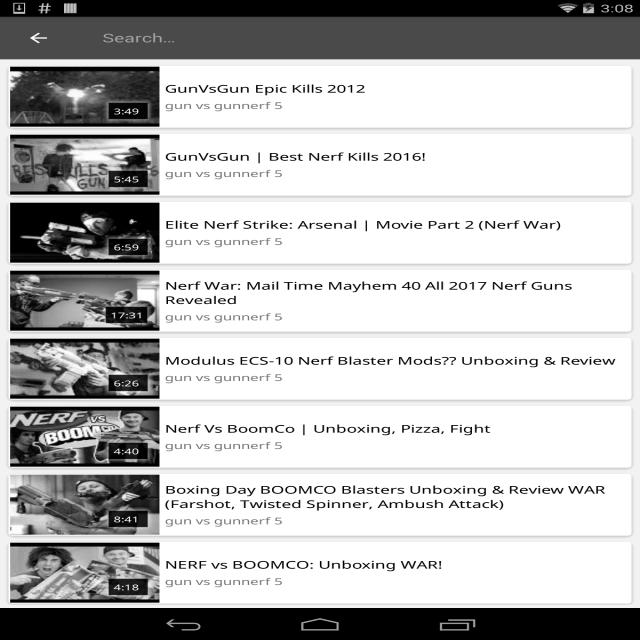EditText: (94, 26, 418, 50)
ImageButton: (9, 17, 68, 59)
ImageView: (10, 66, 160, 126), (10, 134, 160, 194), (10, 202, 160, 262), (10, 270, 160, 330), (10, 338, 160, 398), (10, 406, 160, 466), (10, 474, 160, 534), (10, 542, 160, 602)
TextView: (165, 278, 630, 307), (165, 482, 630, 511), (165, 81, 630, 96), (165, 149, 630, 164), (165, 217, 630, 232), (165, 353, 630, 368), (165, 421, 630, 436), (165, 557, 630, 572), (165, 99, 630, 112), (165, 167, 630, 180), (165, 235, 630, 248), (165, 310, 630, 323), (165, 371, 630, 384), (165, 439, 630, 452), (165, 514, 630, 527), (165, 575, 630, 588), (100, 303, 154, 327), (103, 99, 154, 123), (103, 167, 154, 191), (103, 235, 154, 259), (103, 371, 154, 395), (103, 439, 154, 463), (103, 507, 154, 531), (103, 575, 154, 599)
